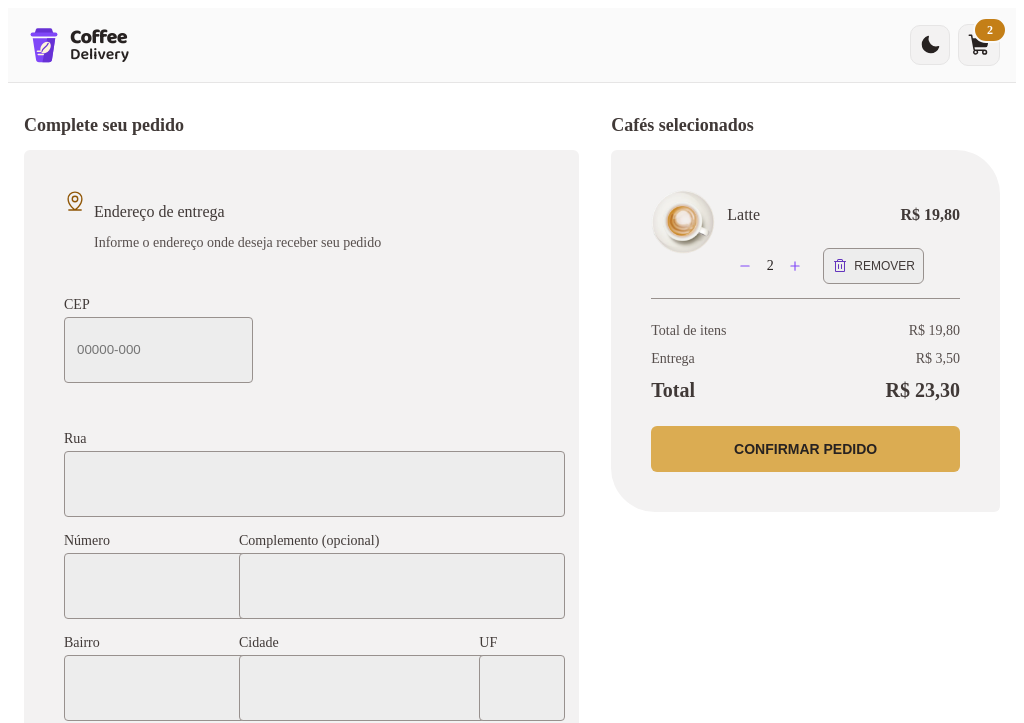
it: valida o pedido, limpa o carrinho e restaura a confirmação em uma nova montagem
Later steps or results of the test are not shown.
Click the button "Confirmar pedido" at [806, 449], box [651,426,960,472]
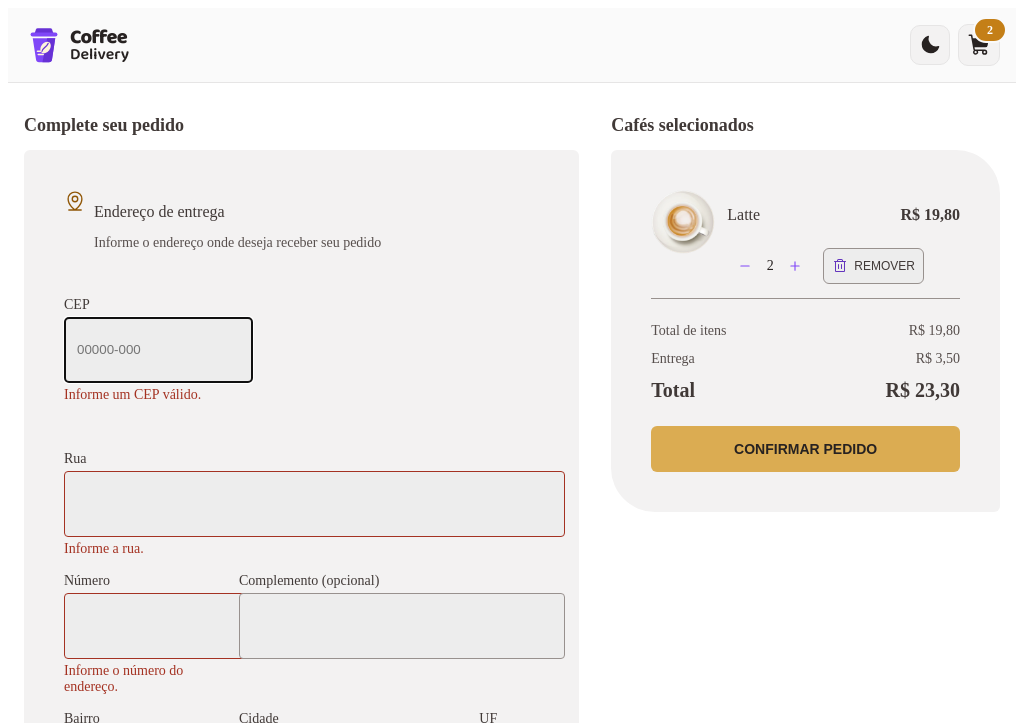
Type "01001000" into the field labelled "CEP" at [158, 350], box [64,316,253,382]
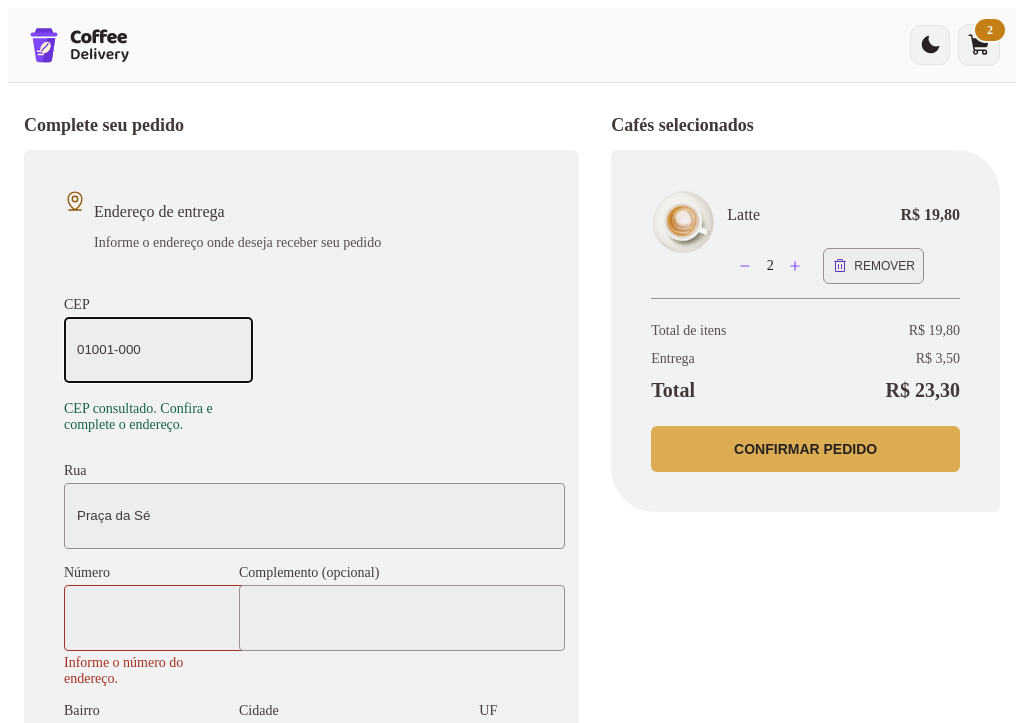
Now the field labelled "Rua" holds "Praça da Sé", box [64,482,565,548]
